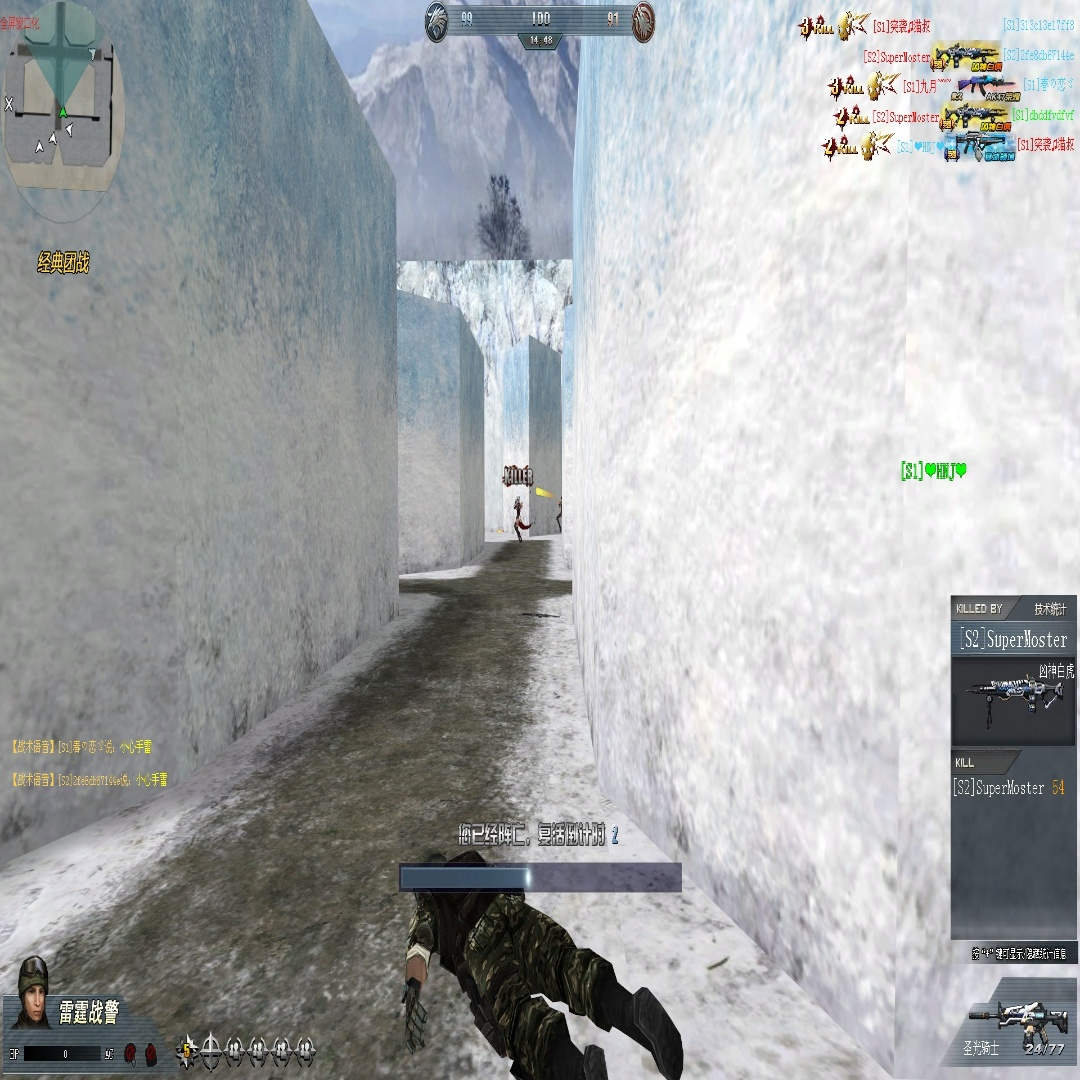t: (513, 495, 528, 542)
